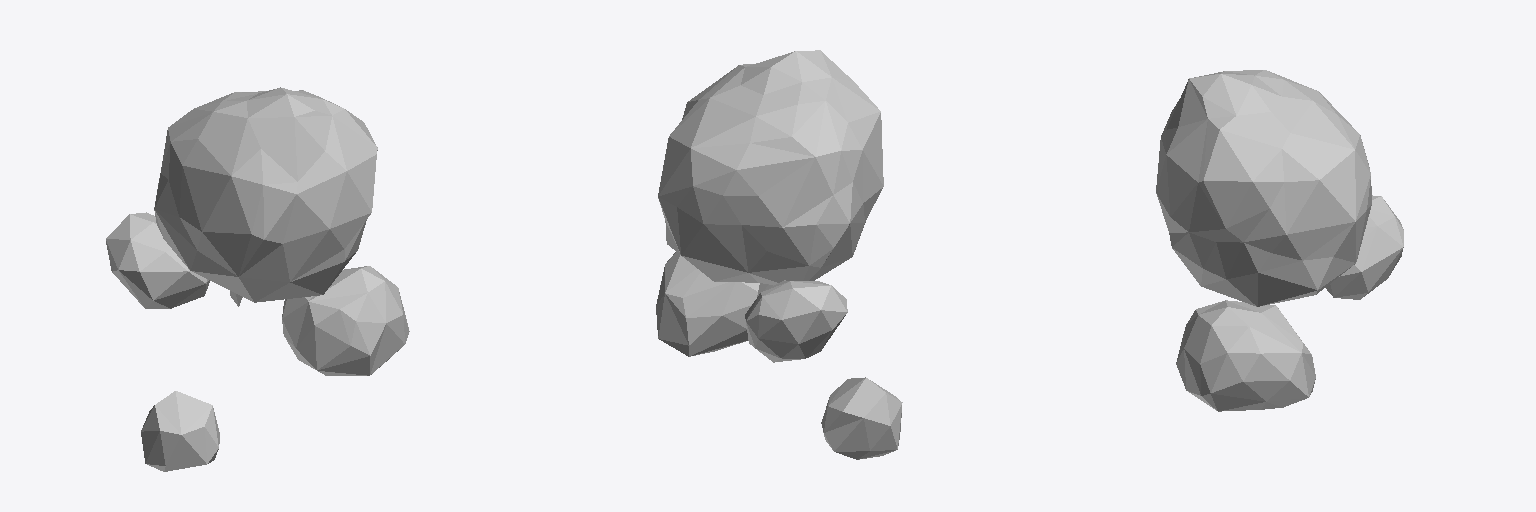
Rendered from tree_leaves.obj.
3 views of the same model, side by side, from view 1: azimuth 30°, elevation 25°; view 2: azimuth 150°, elevation 25°; view 3: azimuth 270°, elevation 25° (orthographic).
Visible parts, largest first — view 1: Tree1_Cube.001; view 2: Tree1_Cube.001; view 3: Tree1_Cube.001.
Part boxes in pixels (x1,y1,x2,y2): Tree1_Cube.001: (106,87,409,471); Tree1_Cube.001: (656,50,902,459); Tree1_Cube.001: (1156,70,1403,411).
Size of the model in its own units: 5.8 by 8.45 by 5.19.